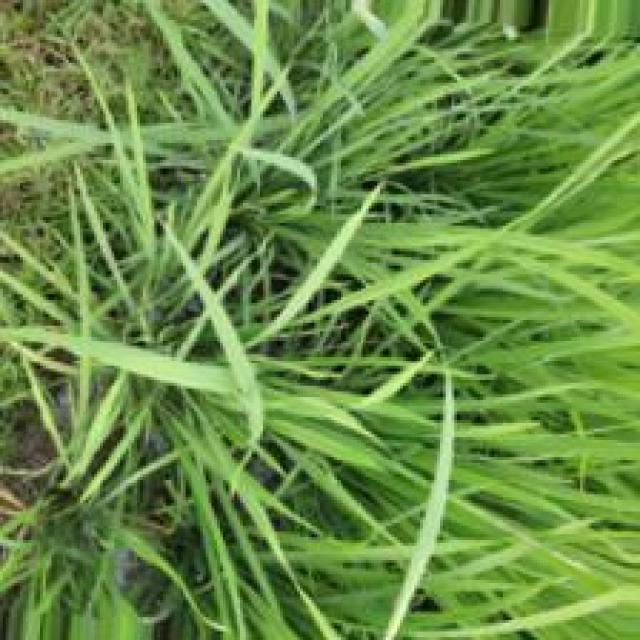HealthyLeaf: (181, 243, 264, 443), (61, 338, 233, 394)
